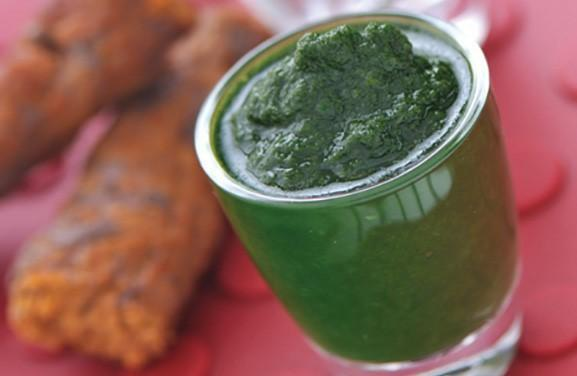GreenChutney: (216, 22, 519, 362)
